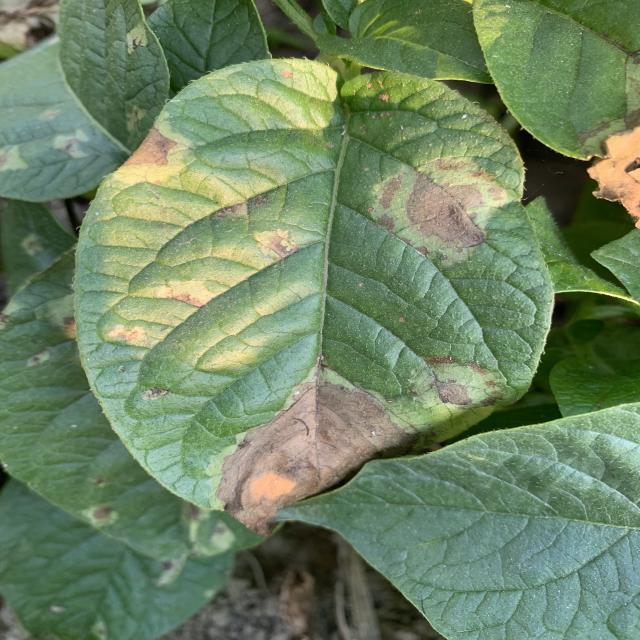lateblight: (217, 369, 422, 534), (405, 172, 483, 248), (427, 358, 505, 405), (122, 128, 177, 166), (255, 229, 300, 260), (172, 280, 210, 308), (447, 184, 483, 210), (435, 380, 472, 405), (380, 176, 402, 209), (142, 388, 170, 400), (378, 218, 392, 228), (183, 294, 187, 298)
